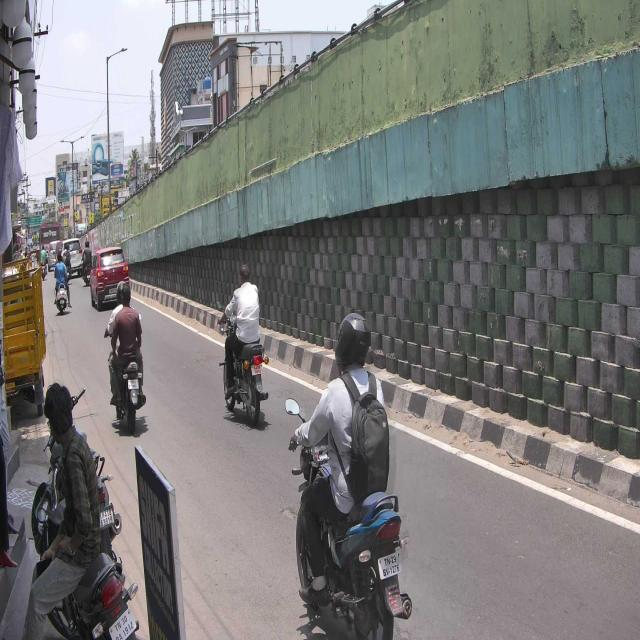double_rider: (103, 279, 148, 436)
single_rider: (283, 312, 415, 640), (216, 264, 269, 422)
